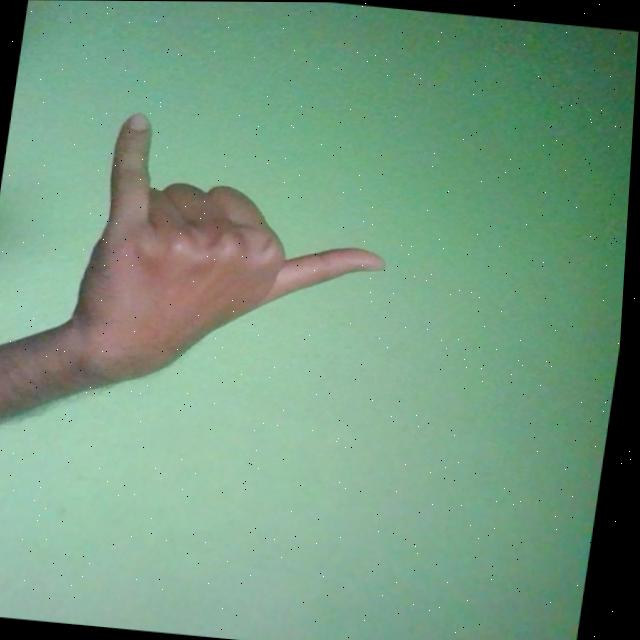Call Me: (61, 108, 407, 417)
